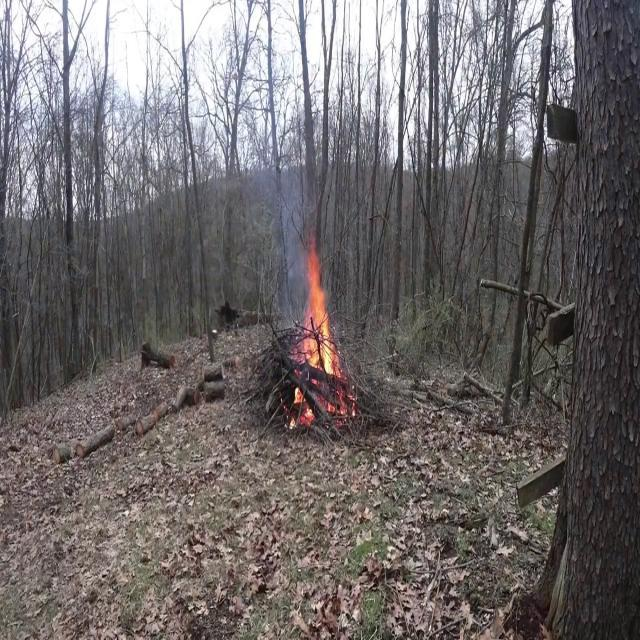Fire: (288, 242, 348, 424), (298, 244, 338, 422)
